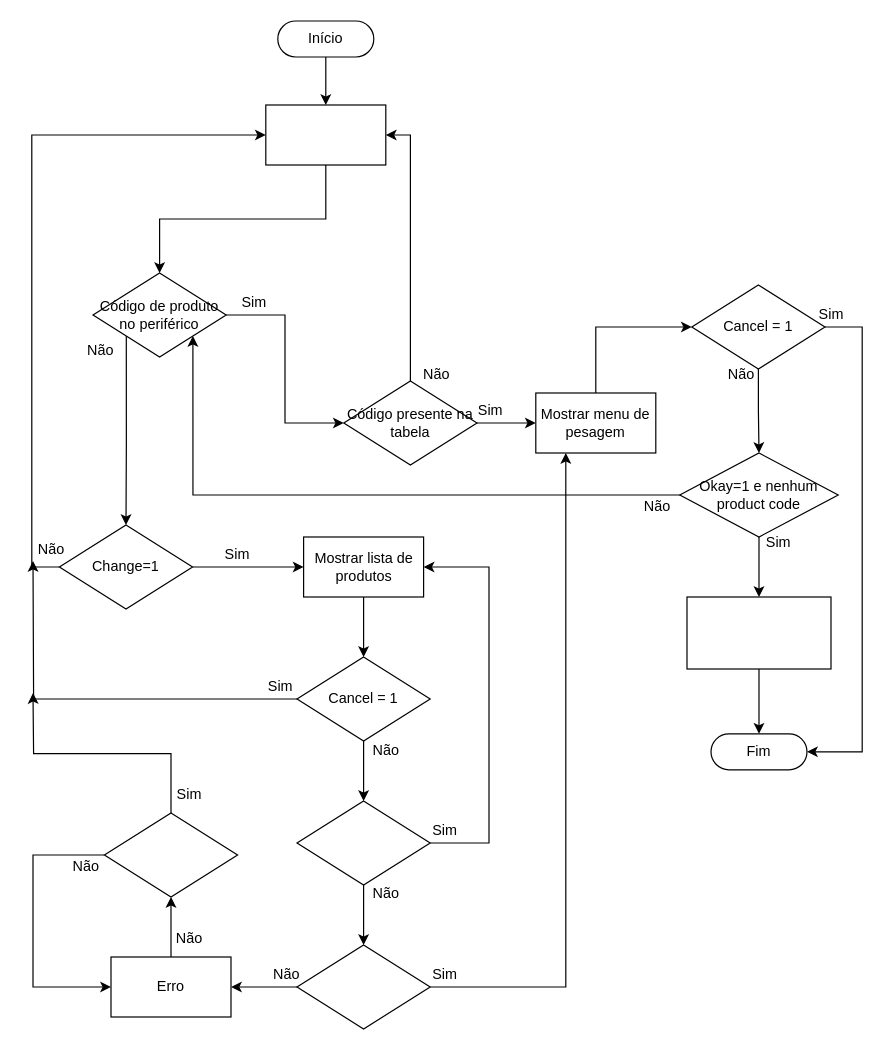
Some shapes in this 893 by 1050 pixel diagram are drawn without their labels. Each missing label, with the centre of its shape:
"Guardar dados da pesagem na memória" belongs at (x=758, y=632).
"Item selecionado" belongs at (x=363, y=986).
"Mostrar menu de pesagem vazio" belongs at (x=325, y=134).
"Next = 1" belongs at (x=363, y=842).
"Okay=1" belongs at (x=170, y=854).
